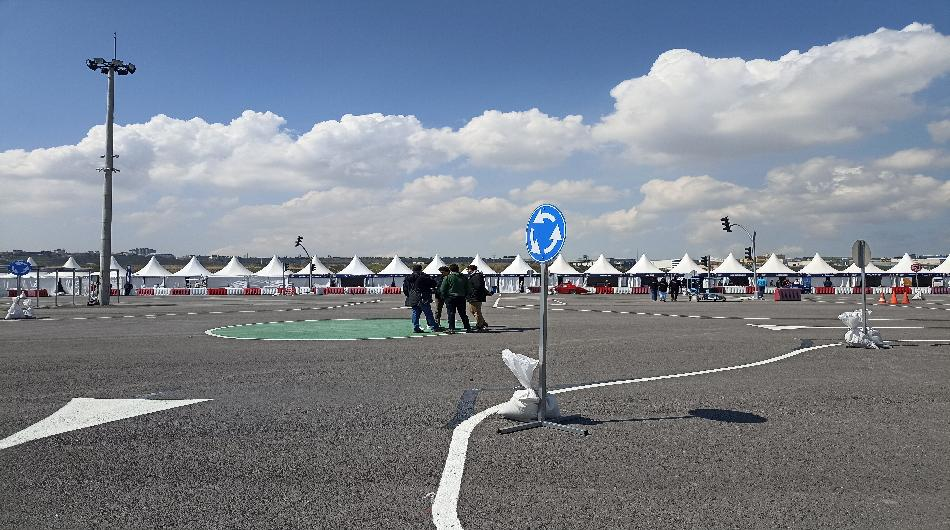ada: (524, 200, 568, 263)
